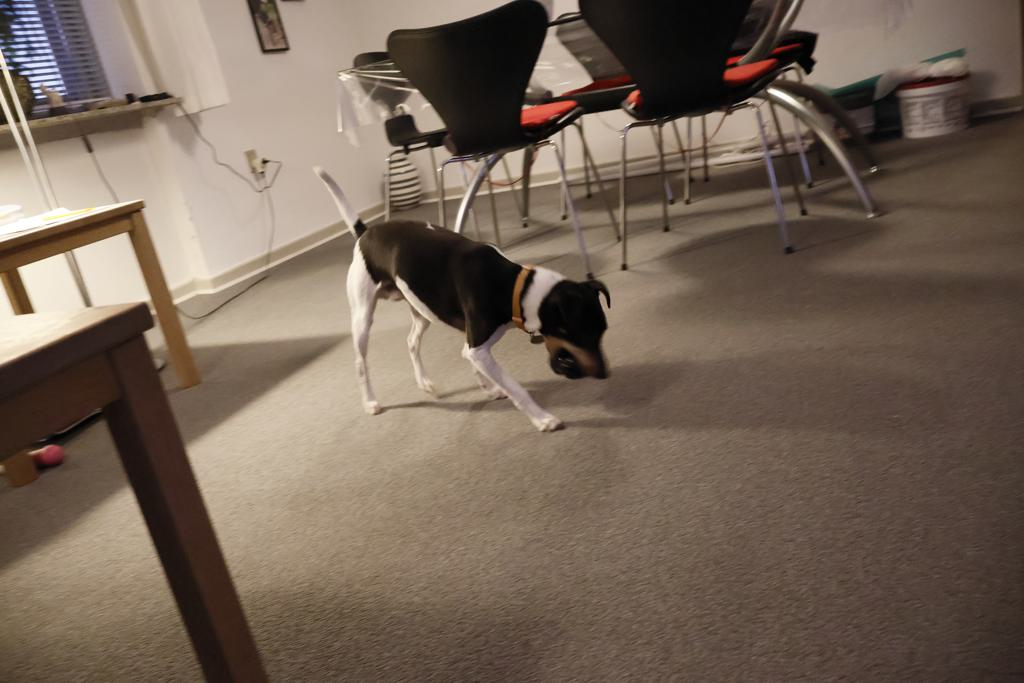Dog: (300, 156, 618, 445)
